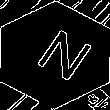N_SW: (21, 23, 89, 87)
